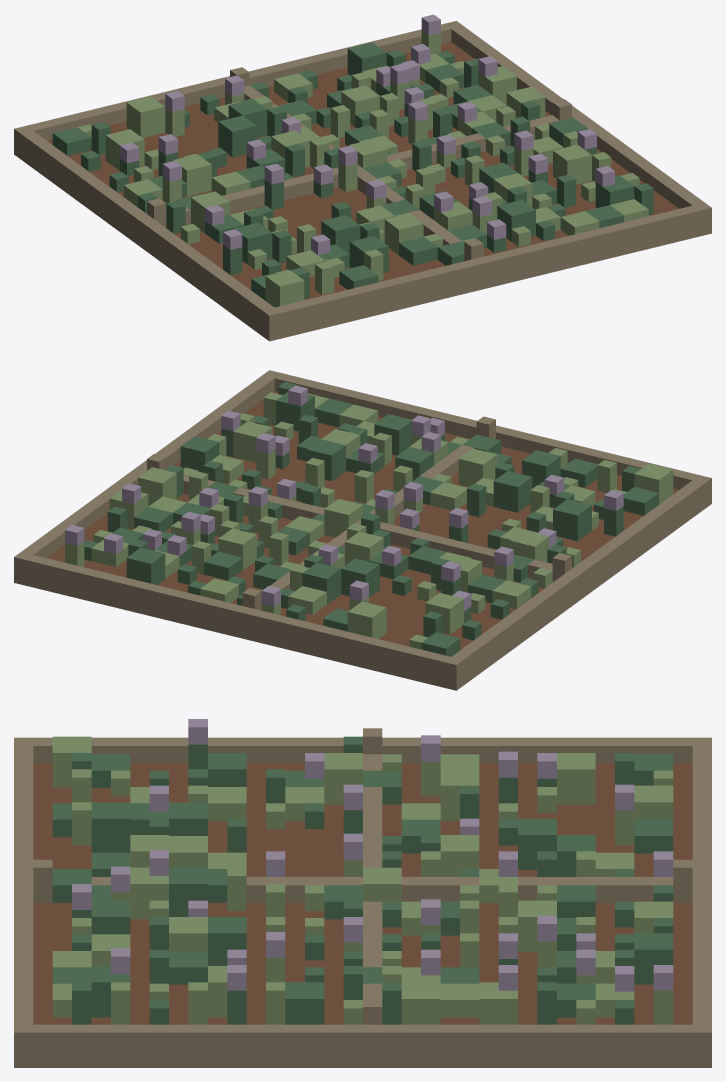
The model's file is hearthvale_garden_herbs_36x36.obj.
The picture shows the model from 3 angles, top to bottom: view 1: azimuth 30°, elevation 25°; view 2: azimuth 150°, elevation 25°; view 3: azimuth 270°, elevation 25°; orthographic projection. The views are drawn at different scales.
Parts seen in each view (by area): view 1: palette_1, palette_4, palette_3, palette_2, palette_5; view 2: palette_1, palette_3, palette_4, palette_2, palette_5; view 3: palette_1, palette_4, palette_3, palette_2, palette_5.
Part boxes in pixels (<box>): palette_1: <box>14,21,711,341</box>; palette_4: <box>77,31,648,307</box>; palette_3: <box>52,42,653,300</box>; palette_2: <box>47,42,678,300</box>; palette_5: <box>120,14,614,255</box>; palette_1: <box>14,370,711,690</box>; palette_3: <box>84,382,658,656</box>; palette_4: <box>65,392,673,649</box>; palette_2: <box>47,391,678,649</box>; palette_5: <box>65,385,623,611</box>; palette_1: <box>14,728,711,1067</box>; palette_4: <box>52,736,673,1024</box>; palette_3: <box>52,736,673,1024</box>; palette_2: <box>33,763,692,1024</box>; palette_5: <box>72,719,673,991</box>.
Size of the model in its own units: 2.25 by 0.25 by 2.25.
